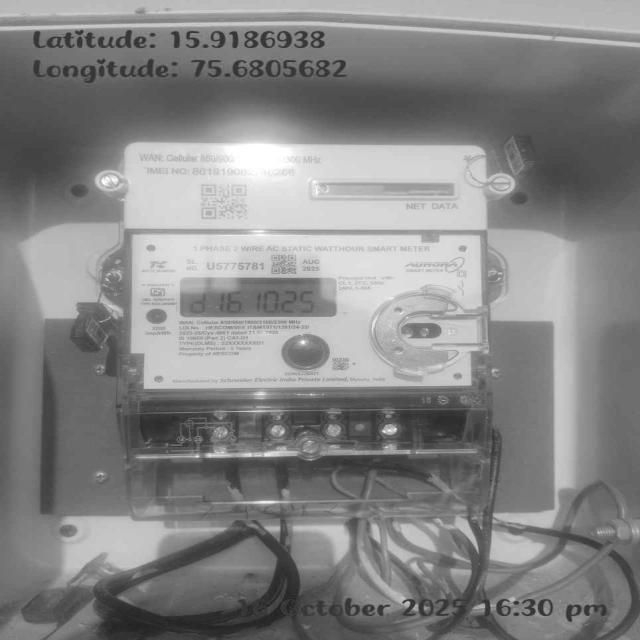meter: (126, 142, 485, 388)
